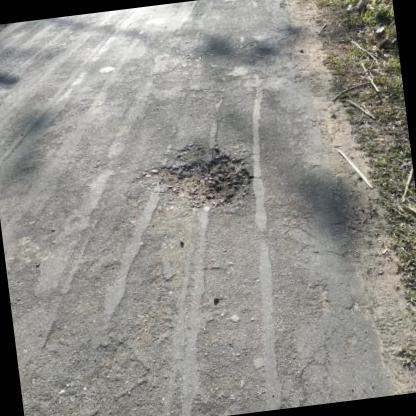pothole: (140, 138, 256, 218)
